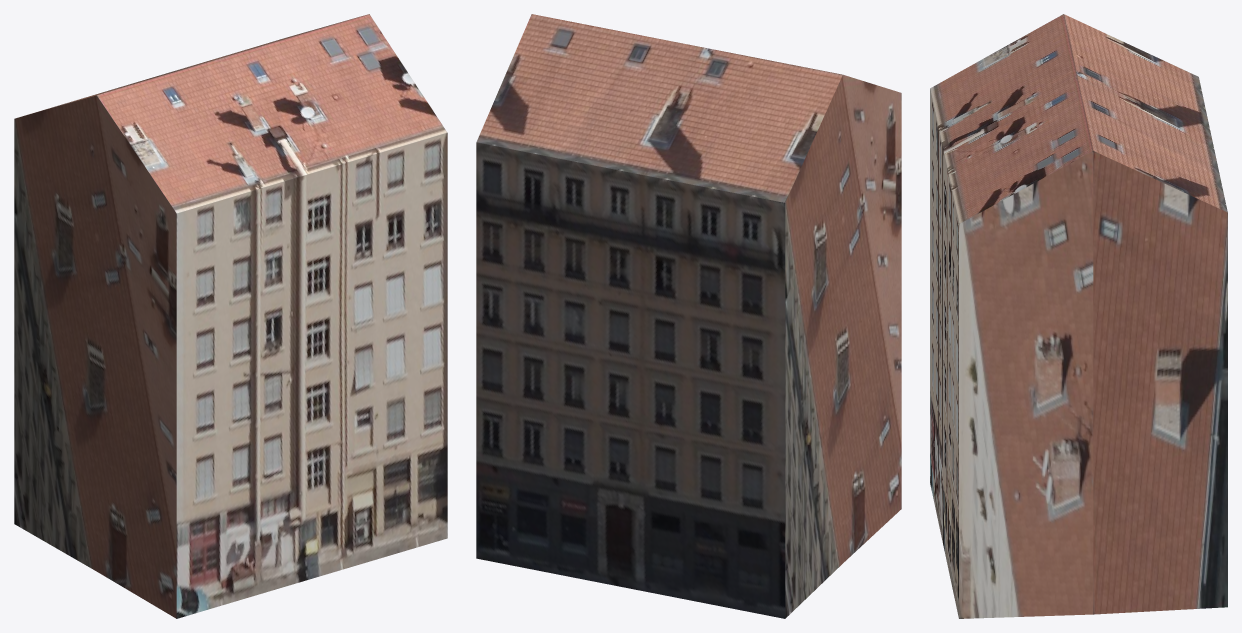
3 renders of one model, left to right at view 1: azimuth 30°, elevation 25°; view 2: azimuth 150°, elevation 25°; view 3: azimuth 270°, elevation 25°, orthographic. The views are drawn at different scales.
Parts seen in each view (by area): view 1: Z_UP; view 2: Z_UP; view 3: Z_UP.
Part boxes in pixels (x1,y1,x2,y2): Z_UP: (14,14,447,618); Z_UP: (476,14,901,618); Z_UP: (930,14,1227,618).
Bounding box in the file's own units: 19.44 × 28.5 × 16.58.
2 materials, 1 textured.
